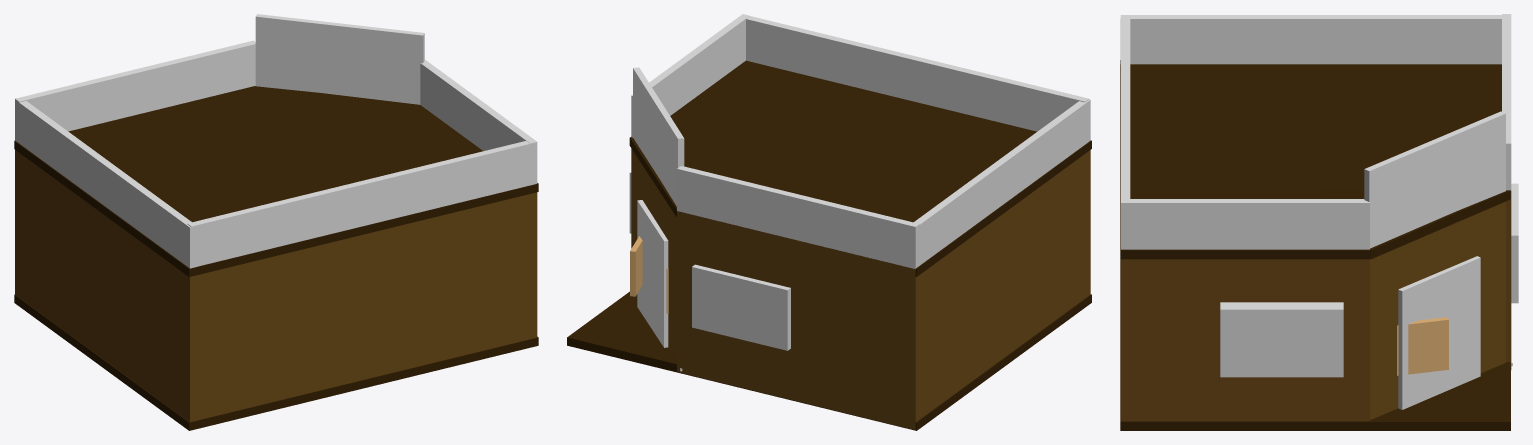
File: WesternBuilding.fbx
3 views of the same model, side by side, from view 1: azimuth 30°, elevation 25°; view 2: azimuth 150°, elevation 25°; view 3: azimuth 270°, elevation 25° (orthographic). The views are drawn at different scales.
Parts seen in each view (by area): view 1: Cube.002, Cube, Cube.001, Cube.011, Cube.009, Cube.010, Cube.013, Cube.007, Cube.012; view 2: Cube, Cube.004, Cube.001, Cube.011, Cube.010, Cube.013, Cube.014, Cube.007, Cube.012, Cube.009, Cube.008, Cube.006 (+1 smaller); view 3: Cube, Cube.005, Cube.013, Cube.012, Cube.006, Cube.009, Cube.015, Cube.007, Cube.008, Cube.017, Cube.011, Cube.010 (+2 smaller).
Boxes of the visible parts, bbox=[...] form: Cube.002: bbox=[197, 192, 536, 420]; Cube: bbox=[14, 86, 538, 276]; Cube.001: bbox=[15, 150, 197, 422]; Cube.011: bbox=[187, 141, 536, 266]; Cube.009: bbox=[255, 14, 424, 104]; Cube.010: bbox=[15, 40, 255, 140]; Cube.013: bbox=[15, 100, 197, 268]; Cube.007: bbox=[14, 294, 538, 430]; Cube.012: bbox=[420, 60, 537, 183]; Cube: bbox=[629, 60, 1091, 276]; Cube.004: bbox=[677, 211, 915, 430]; Cube.001: bbox=[916, 150, 1090, 421]; Cube.011: bbox=[746, 16, 1088, 131]; Cube.010: bbox=[677, 166, 919, 268]; Cube.013: bbox=[913, 99, 1090, 267]; Cube.014: bbox=[692, 264, 790, 350]; Cube.007: bbox=[567, 291, 1091, 430]; Cube.012: bbox=[631, 14, 749, 137]; Cube.009: bbox=[633, 67, 684, 206]; Cube.008: bbox=[637, 200, 668, 347]; Cube.006: bbox=[633, 152, 676, 360]; Cube: bbox=[1120, 60, 1510, 259]; Cube.005: bbox=[1121, 259, 1369, 421]; Cube.013: bbox=[1120, 15, 1501, 64]; Cube.012: bbox=[1121, 199, 1369, 249]; Cube.006: bbox=[1370, 201, 1505, 419]; Cube.009: bbox=[1364, 111, 1505, 248]; Cube.015: bbox=[1220, 302, 1343, 377]; Cube.007: bbox=[1120, 259, 1510, 430]; Cube.008: bbox=[1398, 256, 1480, 409]; Cube.017: bbox=[1397, 317, 1448, 375]; Cube.011: bbox=[1121, 15, 1130, 248]; Cube.010: bbox=[1502, 14, 1511, 190].
Size of the model in its own units: 2078 by 1271 by 1775.
